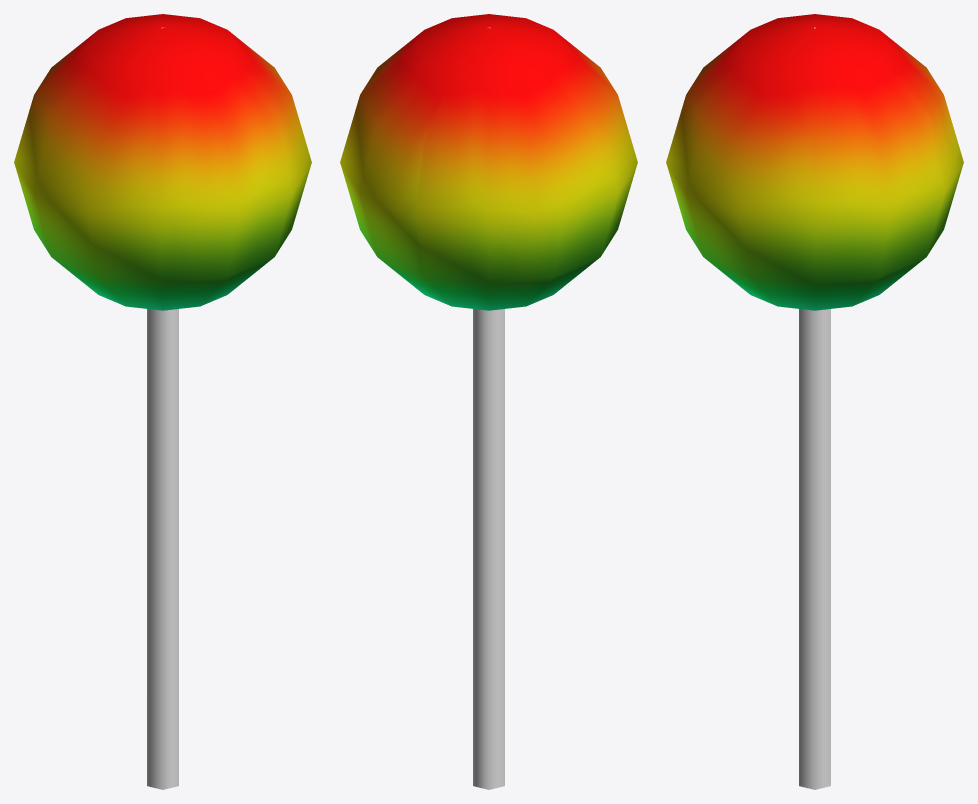
The model's file is candy4.FBX.
The picture shows the model from 3 angles, left to right: view 1: azimuth 30°, elevation 25°; view 2: azimuth 150°, elevation 25°; view 3: azimuth 270°, elevation 25°; orthographic projection.
Parts seen in each view (by area): view 1: candy4; view 2: candy4; view 3: candy4.
Boxes of the visible parts, bbox=[...] form: candy4: bbox=[14, 14, 311, 789]; candy4: bbox=[340, 14, 637, 789]; candy4: bbox=[666, 14, 963, 789].
Bounding box in the file's own units: 27.68 × 77.4 × 27.68.
